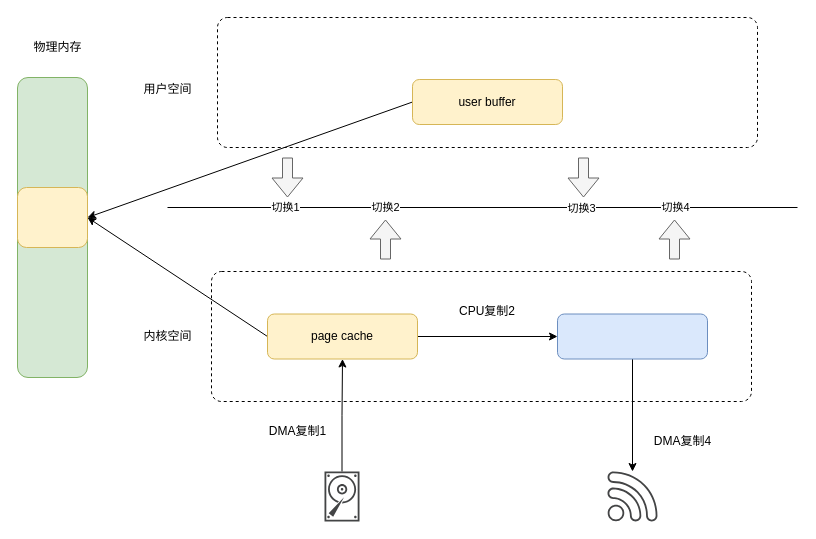
The diagram is 816 pixels wide and 539 high, and some of its shapes have lost their labels. Here are the shapes that lost their labels. From the top down, the box of each, then its label:
(16, 186, 88, 248): 共享空间
(556, 313, 708, 359): socket buffer
